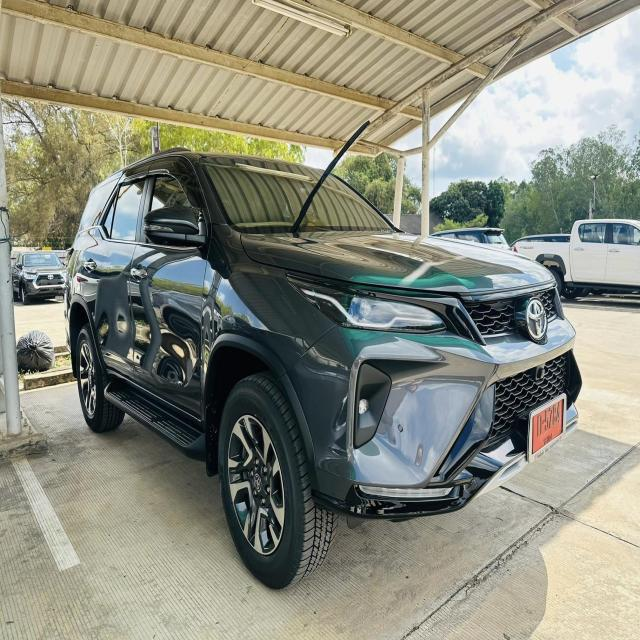license_plate: (523, 381, 568, 475)
